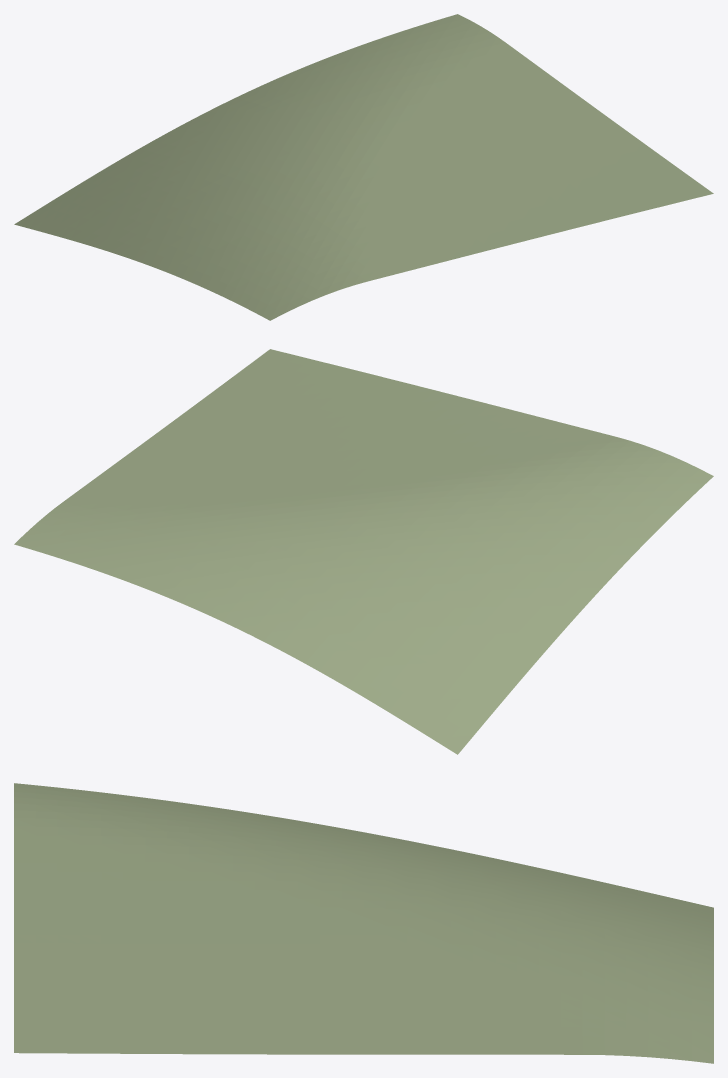
File: desert-19-16.glb
3 renders of one model, top to bottom at view 1: azimuth 30°, elevation 25°; view 2: azimuth 150°, elevation 25°; view 3: azimuth 270°, elevation 25°, orthographic. The views are drawn at different scales.
Parts seen in each view (by area): view 1: desert-19-16; view 2: desert-19-16; view 3: desert-19-16.
Boxes of the visible parts, <box> form: desert-19-16: <box>14,14,713,320</box>; desert-19-16: <box>14,349,713,754</box>; desert-19-16: <box>14,783,713,1063</box>.
Size of the model in its own units: 512 by 121 by 512.
